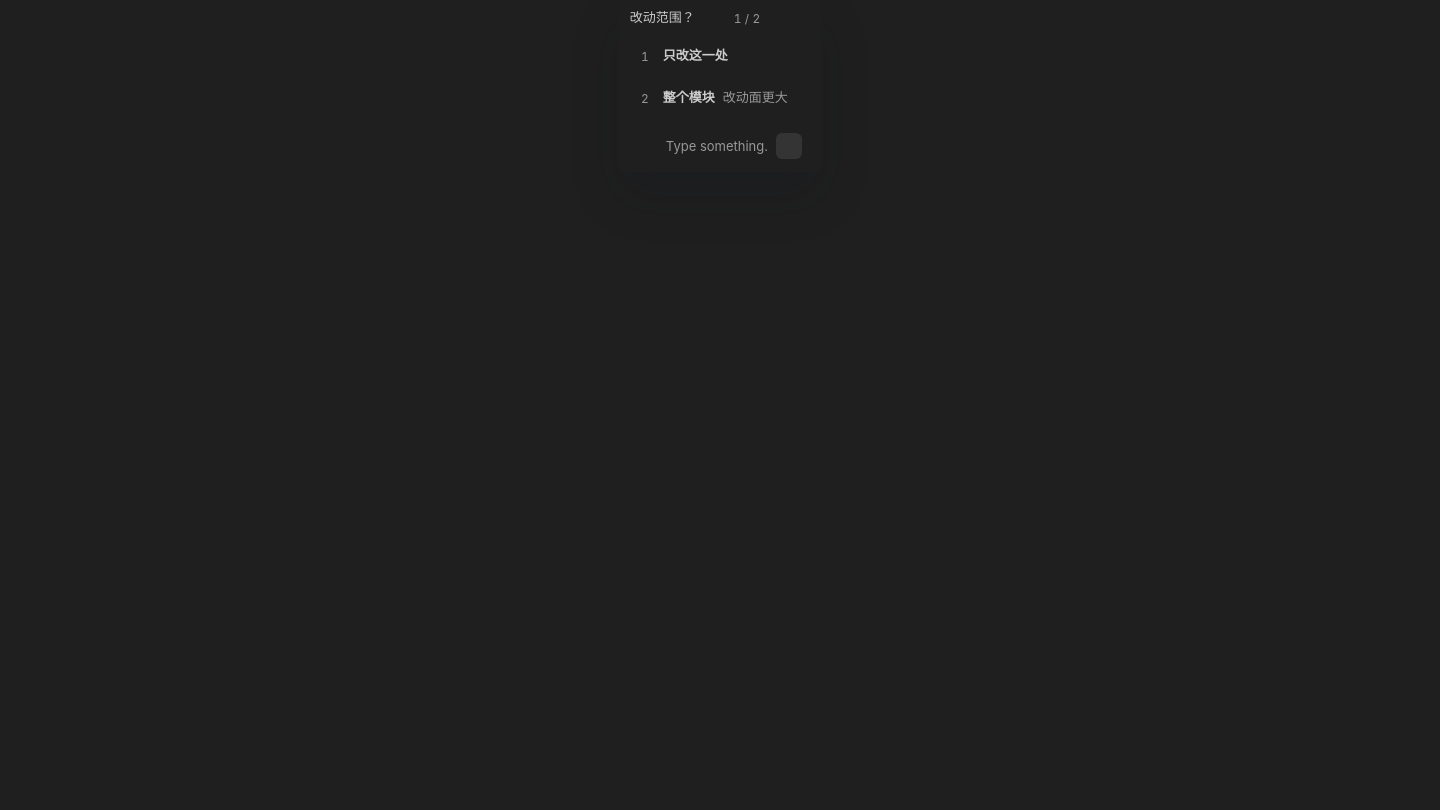
Test: QuestionnaireDialog — paging › shows one question per page and walks forward as they are answered
The width and height of the screenshot is (1440, 810).
Click the 2nd button with class "ask-row": (720, 98) [626, 78, 814, 118]
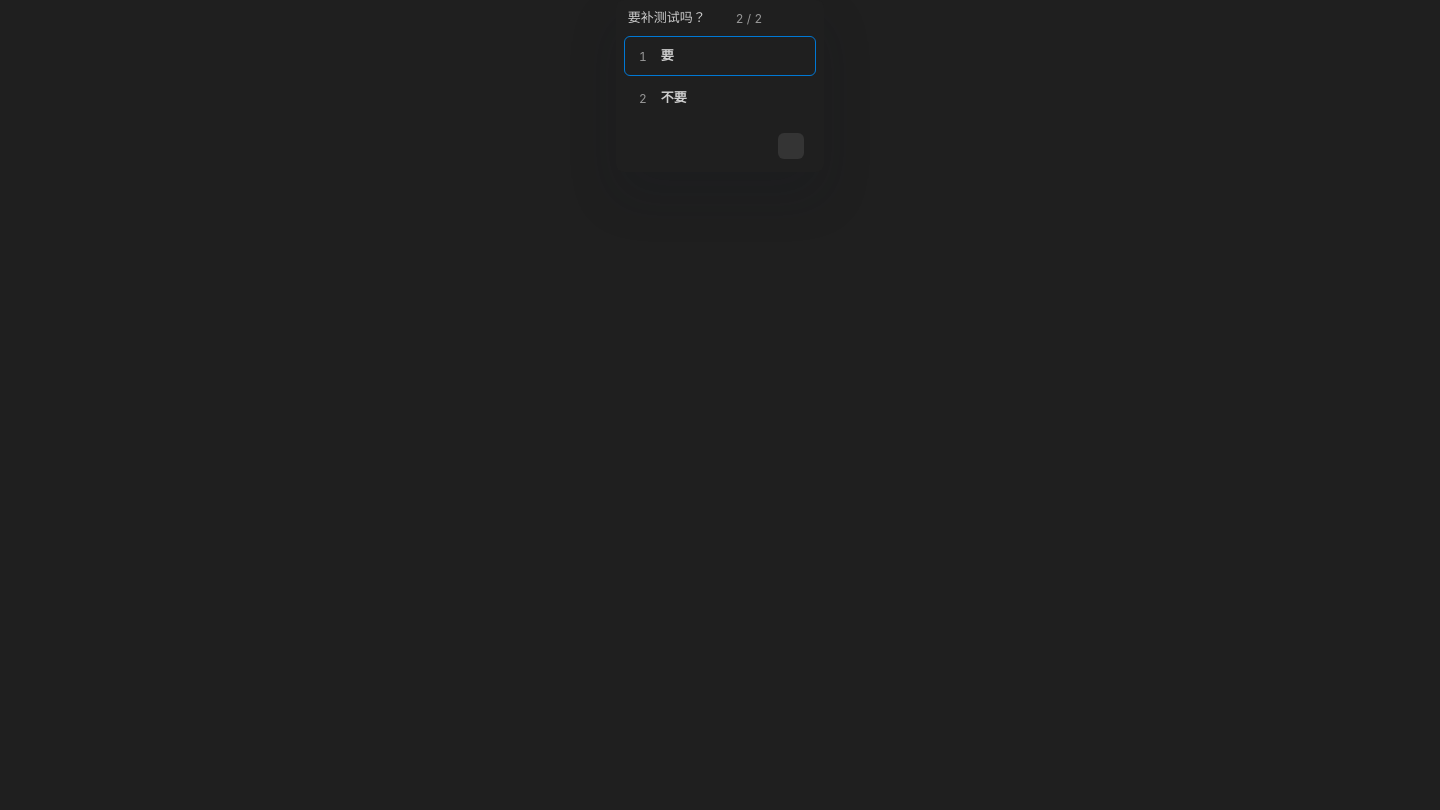
Expected: the text with class "ask-title" reads "要补测试吗？", [628, 9, 706, 25]
